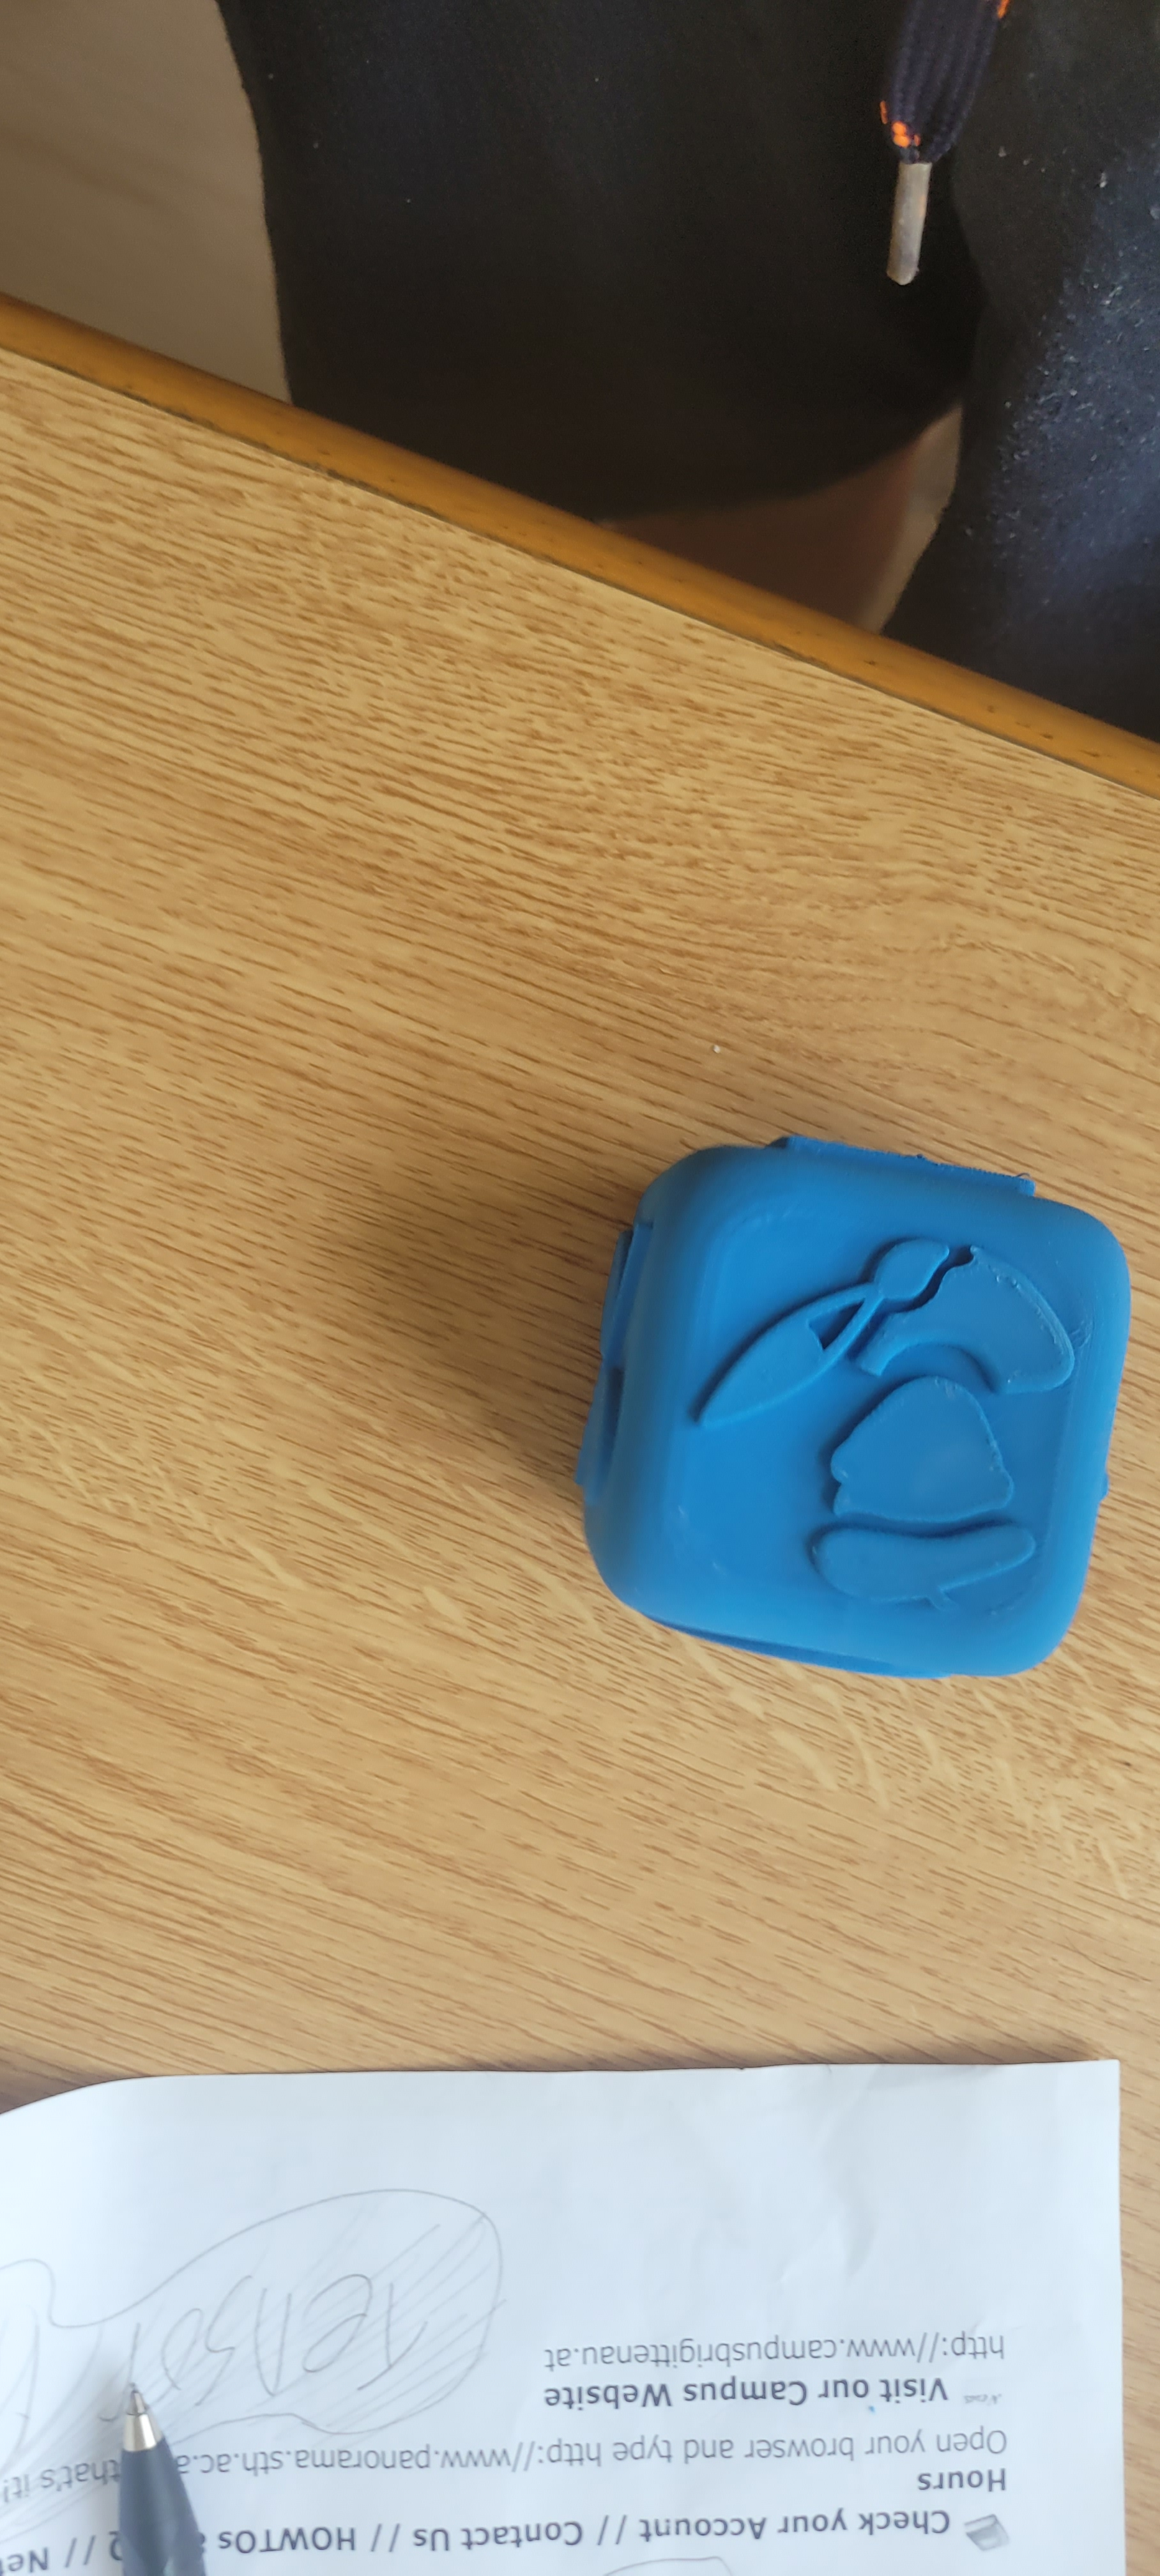Artist_Info: (623, 1165, 1073, 1659)
